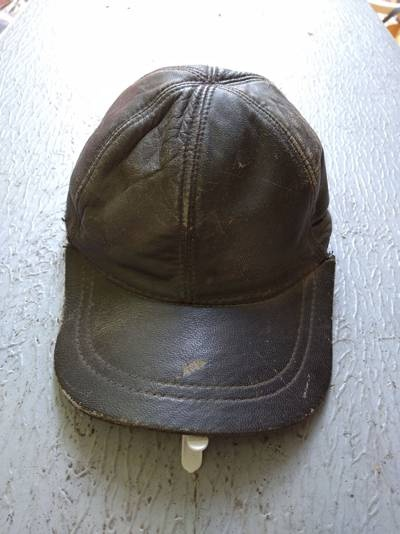Hat: (44, 55, 369, 457)
